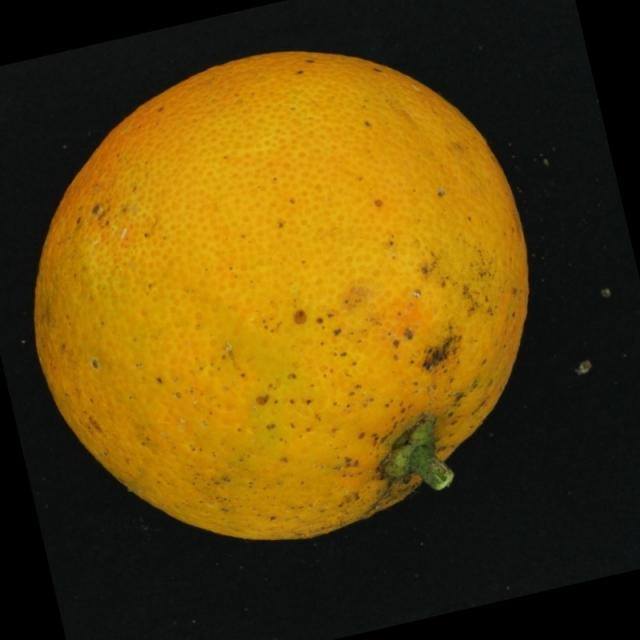grenning: (12, 36, 546, 572)
